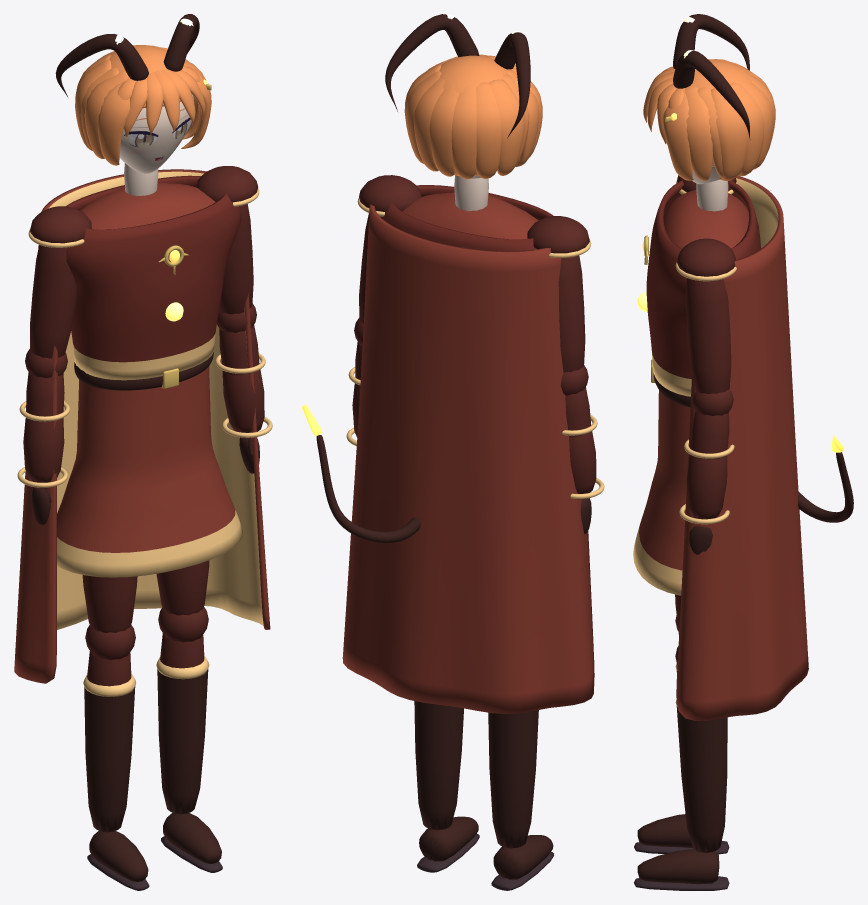
The model's file is overflow.glb.
The picture shows the model from 3 angles, left to right: view 1: azimuth 30°, elevation 25°; view 2: azimuth 150°, elevation 25°; view 3: azimuth 270°, elevation 25°; orthographic projection.
Visible parts, largest first — view 1: overflow:body.mesh, overflow:head.mesh, overflow:shinL.mesh, overflow:shinR.mesh, overflow:armL.mesh, overflow:foreL.mesh, overflow:foreR.mesh, overflow:armR.mesh, overflow:legL.mesh, overflow:legR.mesh; view 2: overflow:body.mesh, overflow:head.mesh, overflow:shinL.mesh, overflow:shinR.mesh, overflow:armL.mesh, overflow:foreL.mesh, overflow:armR.mesh, overflow:foreR.mesh; view 3: overflow:body.mesh, overflow:head.mesh, overflow:shinR.mesh, overflow:armR.mesh, overflow:foreR.mesh, overflow:shinL.mesh.
Part boxes in pixels (x1,y1,x2,y2): overflow:body.mesh: (14,169,270,683); overflow:head.mesh: (55,14,211,195); overflow:shinL.mesh: (83,624,149,890); overflow:shinR.mesh: (156,607,222,872); overflow:armL.mesh: (28,206,91,358); overflow:foreL.mesh: (17,349,69,524); overflow:foreR.mesh: (215,303,272,473); overflow:armR.mesh: (196,166,259,314); overflow:legL.mesh: (82,575,137,632); overflow:legR.mesh: (156,560,209,615); overflow:body.mesh: (301,185,594,714); overflow:head.mesh: (385,14,542,211); overflow:shinL.mesh: (488,710,553,890); overflow:shinR.mesh: (414,701,479,872); overflow:armL.mesh: (527,216,591,372); overflow:foreL.mesh: (560,365,604,533); overflow:armR.mesh: (357,175,421,323); overflow:foreR.mesh: (346,318,363,445); overflow:body.mesh: (633,176,853,720); overflow:head.mesh: (643,14,775,211); overflow:shinR.mesh: (634,646,729,890); overflow:armR.mesh: (675,238,736,393); overflow:foreR.mesh: (679,389,734,554); overflow:shinL.mesh: (634,615,729,854).
Bounding box in the file's own units: 0.567 × 1.83 × 0.4368.
Materials: 28 (1 with a texture image).
